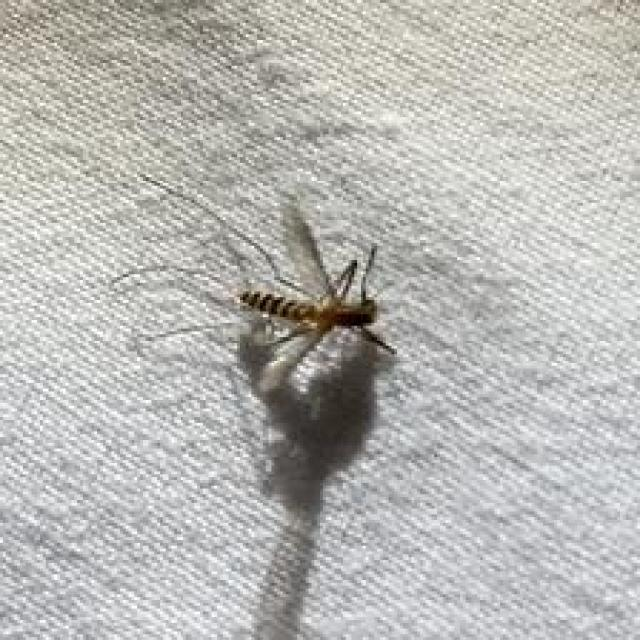Culex: (109, 170, 400, 399)
